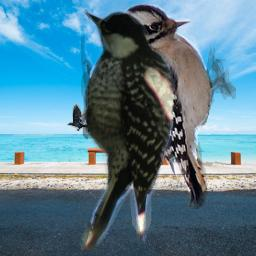Crow: (67, 103, 90, 131)
Woodpecker: (116, 4, 236, 209), (81, 9, 176, 250)
